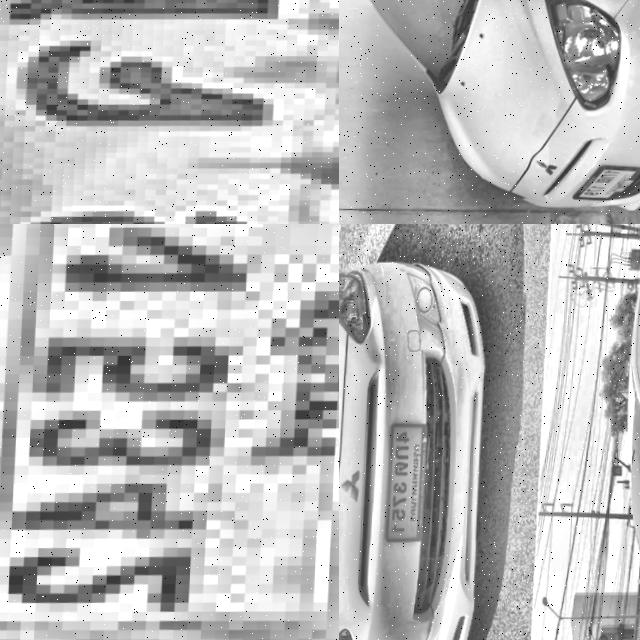license-plate: (0, 224, 339, 640), (0, 0, 339, 224), (381, 422, 431, 546), (568, 162, 640, 206)
